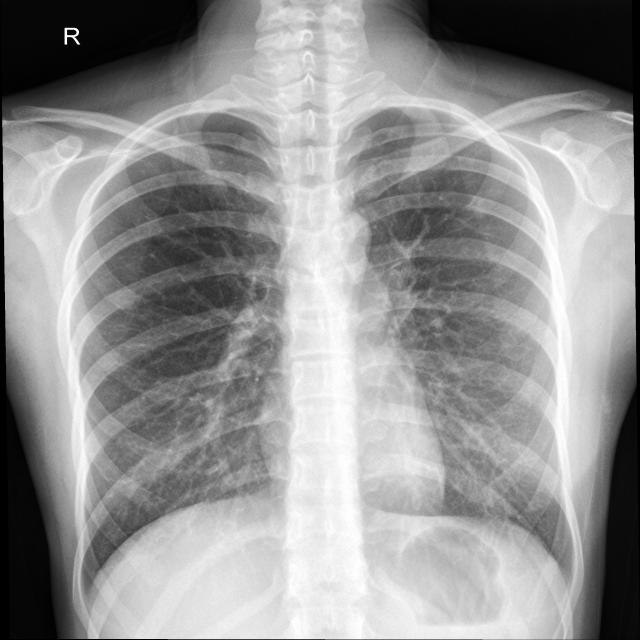no-pneumonia: (70, 113, 284, 580), (352, 111, 567, 552)
